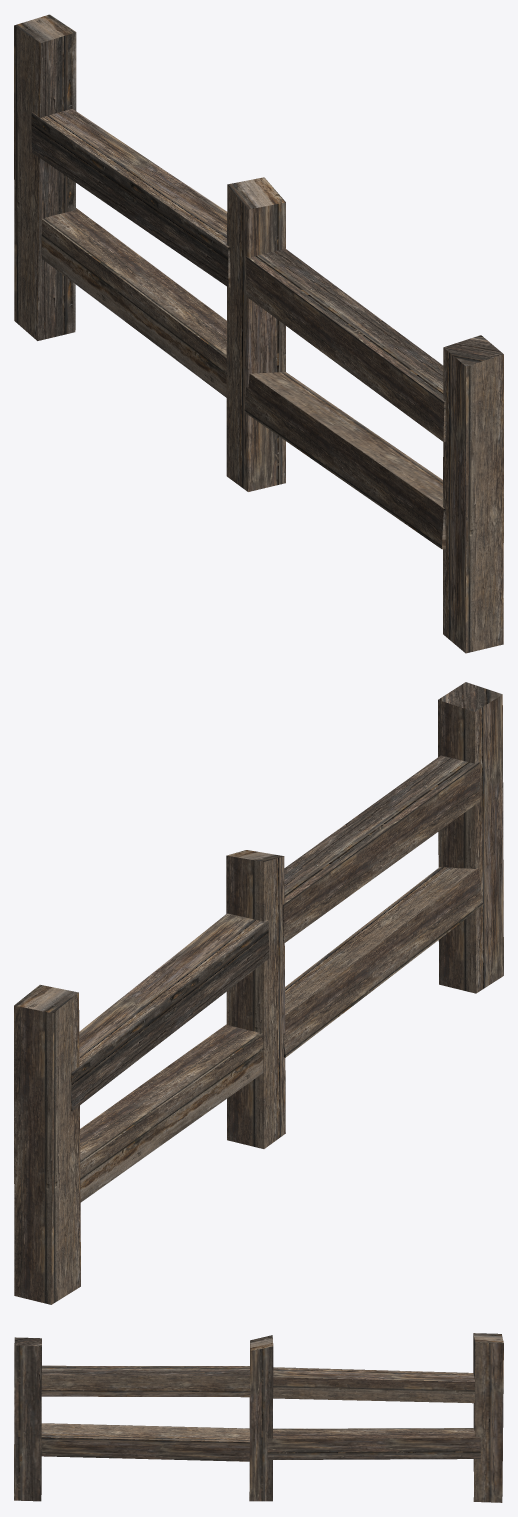
File: Valla.obj
3 renders of one model, top to bottom at view 1: azimuth 30°, elevation 25°; view 2: azimuth 150°, elevation 25°; view 3: azimuth 270°, elevation 25°, orthographic. The views are drawn at different scales.
Parts seen in each view (by area): view 1: fence:WoodLogPlank; view 2: fence:WoodLogPlank; view 3: fence:WoodLogPlank.
Boxes of the visible parts, box(x1,y1,x2,y2) form: fence:WoodLogPlank: box(14, 14, 503, 653); fence:WoodLogPlank: box(14, 682, 503, 1304); fence:WoodLogPlank: box(14, 1333, 503, 1502).
Size of the model in its own units: 0.2314 by 1.51 by 4.18.
1 material, 1 textured.
